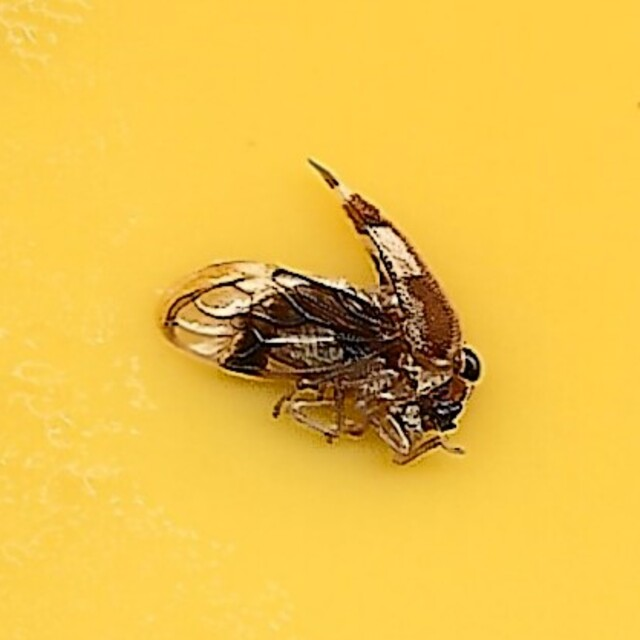Hemiptera: (153, 157, 487, 483)
